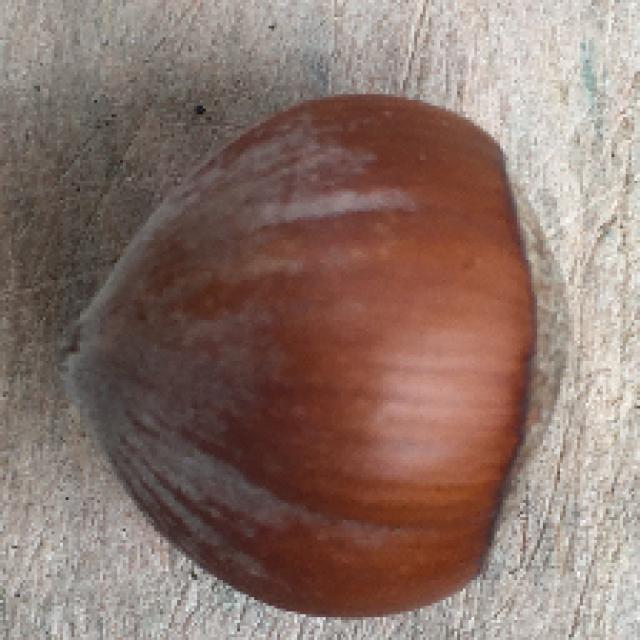qualityHazelnut: (57, 95, 581, 620)
